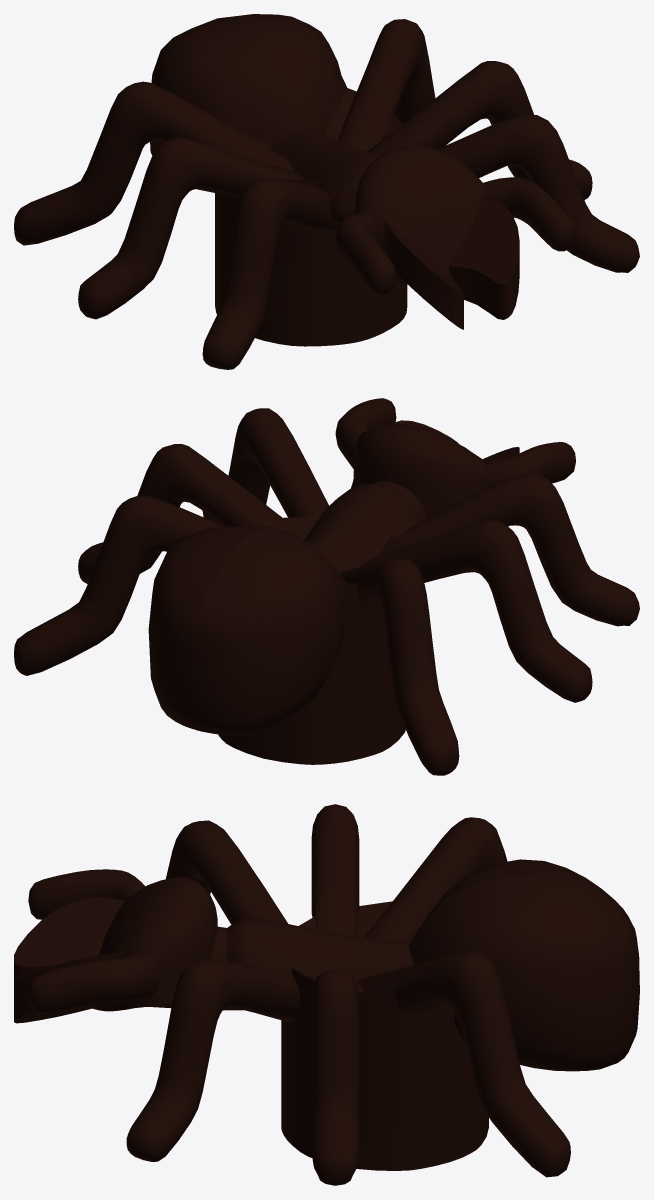
Rendered from ant.dae.
3 views of the same model, one above another, from view 1: azimuth 30°, elevation 25°; view 2: azimuth 150°, elevation 25°; view 3: azimuth 270°, elevation 25° (orthographic). The views are drawn at different scales.
Parts seen in each view (by area): view 1: Part.0; view 2: Part.0; view 3: Part.0.
Boxes of the visible parts, bbox=[...] form: Part.0: bbox=[14, 14, 639, 369]; Part.0: bbox=[14, 398, 639, 775]; Part.0: bbox=[14, 804, 639, 1185].
Size of the model in its own units: 19.74 by 8.67 by 19.65.
